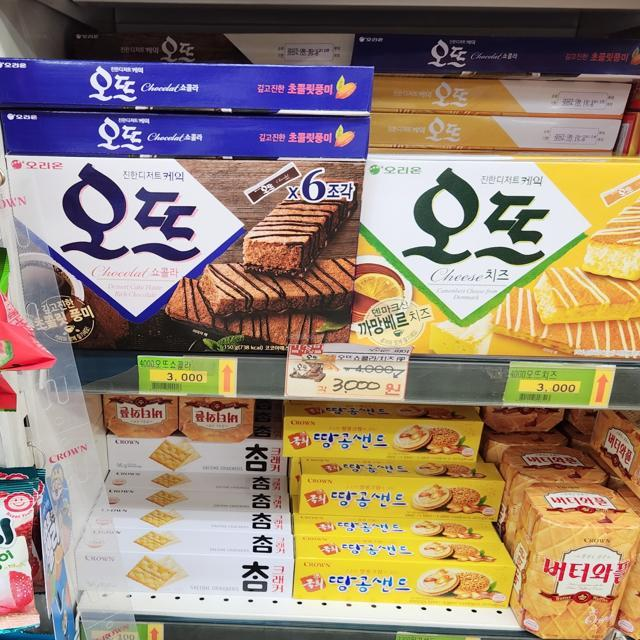product: (3, 156, 364, 352), (364, 157, 640, 367), (534, 517, 634, 640), (299, 558, 512, 607), (75, 551, 294, 597), (282, 414, 480, 463), (299, 471, 503, 517), (293, 507, 505, 540)
